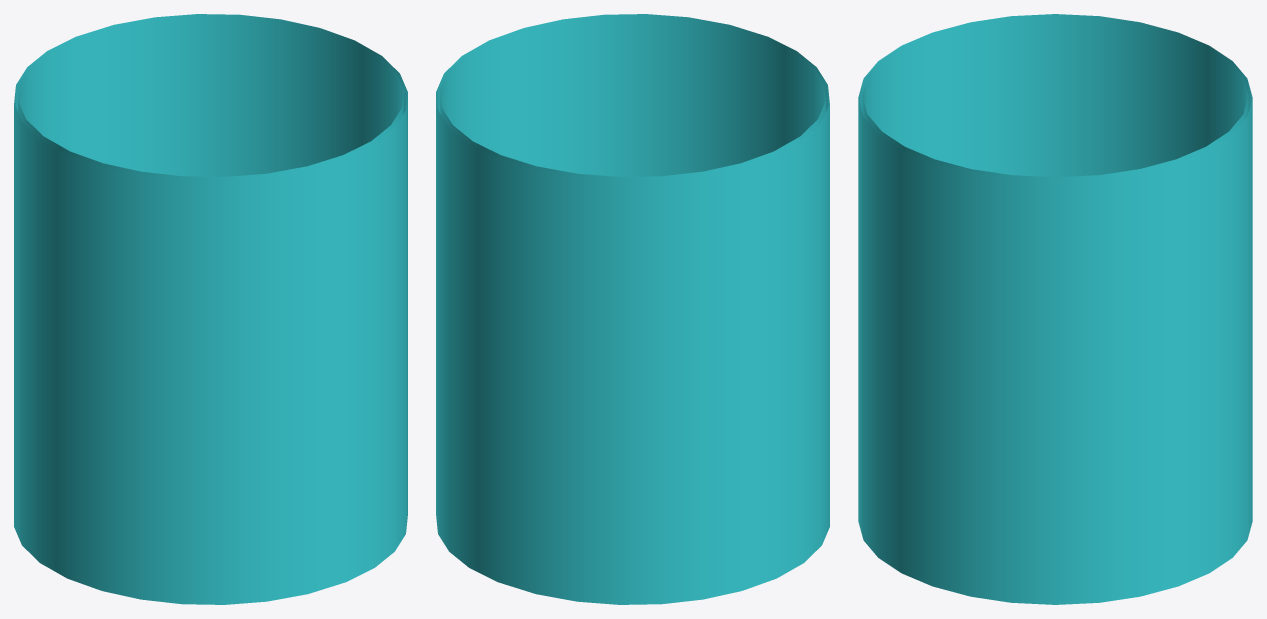
3 views of the same model, side by side, from view 1: azimuth 30°, elevation 25°; view 2: azimuth 150°, elevation 25°; view 3: azimuth 270°, elevation 25° (orthographic).
Visible parts, largest first — view 1: Shape001; view 2: Shape001; view 3: Shape001.
Boxes of the visible parts, x1,y1,x2,y2 form: Shape001: (14, 14, 407, 604); Shape001: (436, 14, 829, 604); Shape001: (858, 14, 1252, 604).
Bounding box in the file's own units: 666 × 797 × 666.
